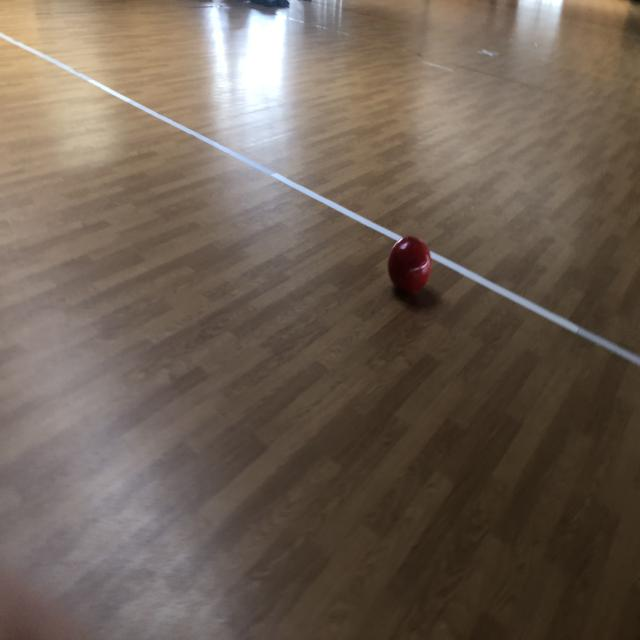red_ball: (388, 238, 431, 298)
